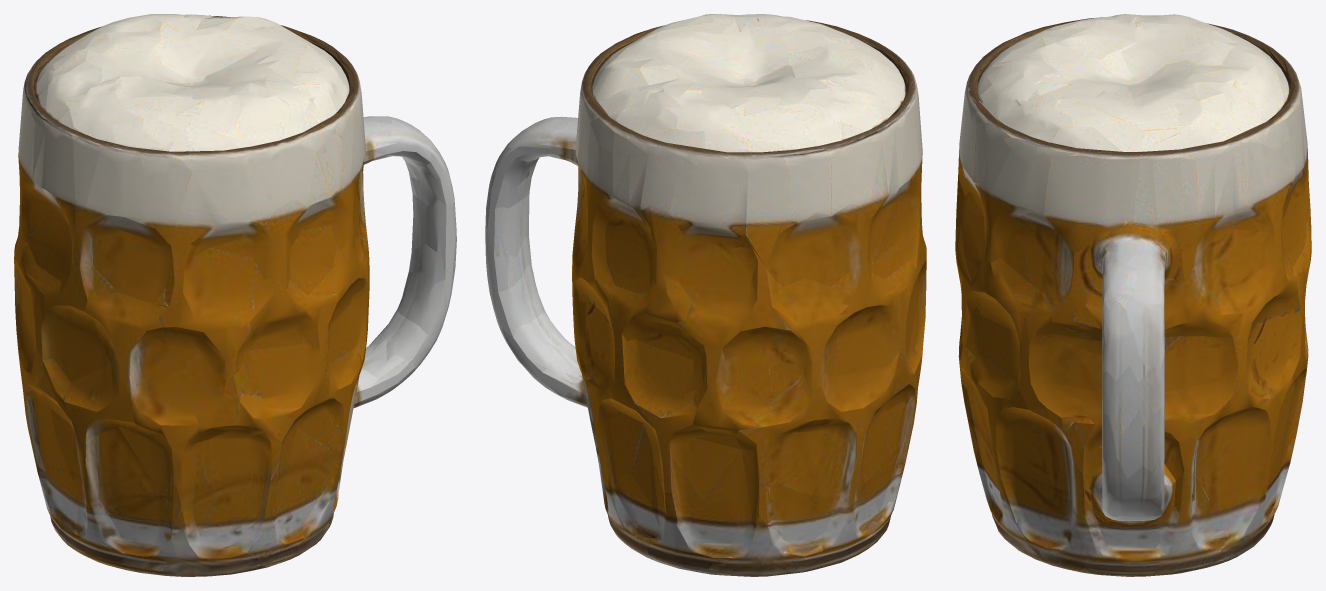
The model's file is sp_mug.glb.
The picture shows the model from 3 angles, left to right: view 1: azimuth 30°, elevation 25°; view 2: azimuth 150°, elevation 25°; view 3: azimuth 270°, elevation 25°; orthographic projection.
Parts seen in each view (by area): view 1: Mesh_0; view 2: Mesh_0; view 3: Mesh_0.
Part boxes in pixels (x1,y1,x2,y2): Mesh_0: [14, 14, 456, 576]; Mesh_0: [485, 14, 926, 576]; Mesh_0: [955, 14, 1311, 576].
Bounding box in the file's own units: 0.1769 × 0.19 × 0.1336.
Materials: 1 (1 with a texture image).
